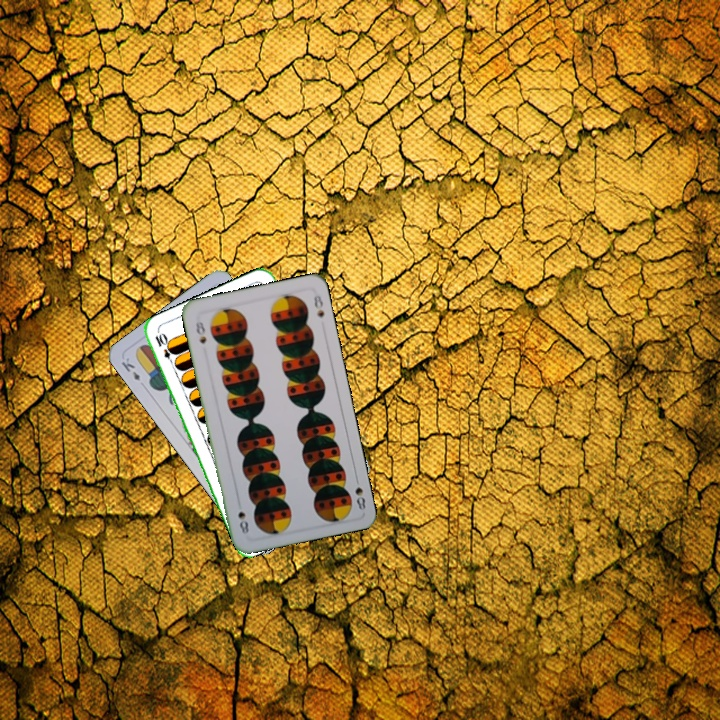E10: (151, 330, 176, 368)
EK: (117, 353, 143, 383)
S8: (351, 472, 368, 513), (192, 316, 209, 346)
